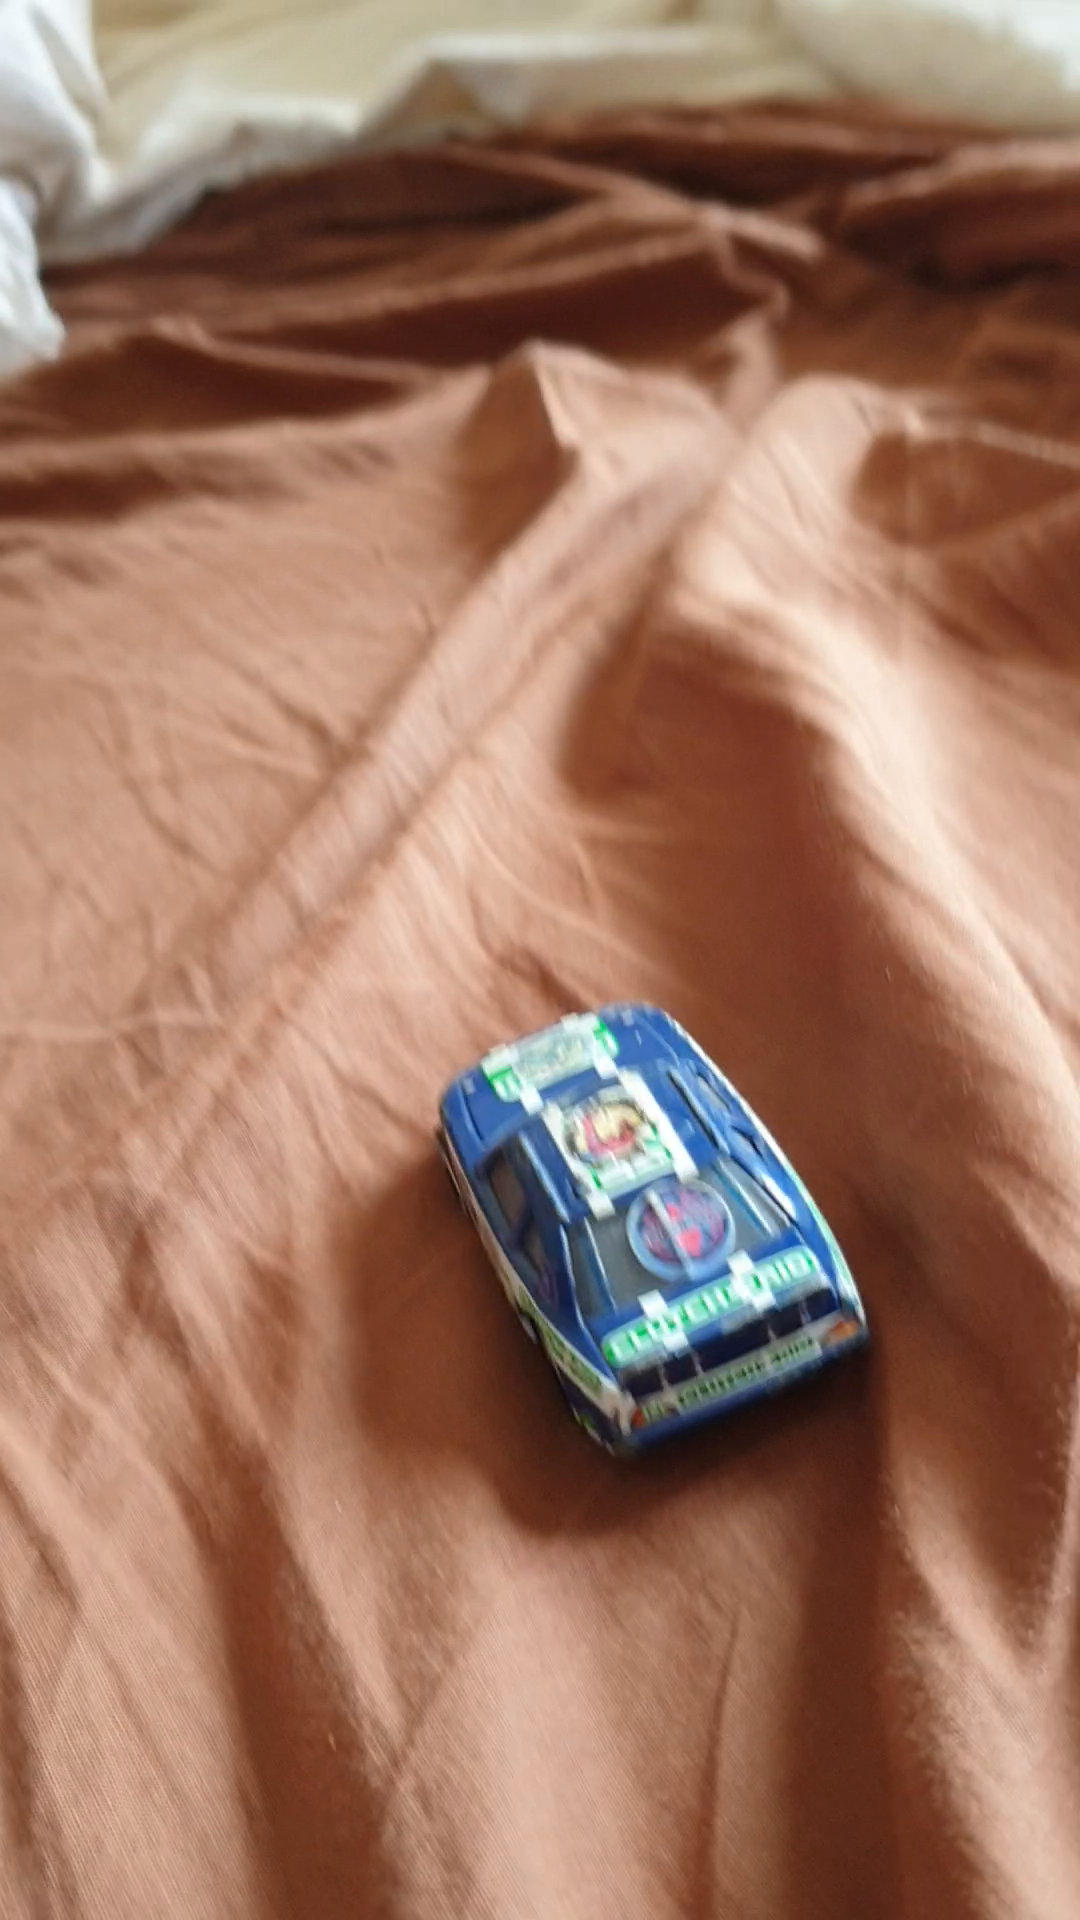cars: (427, 997, 872, 1455)
